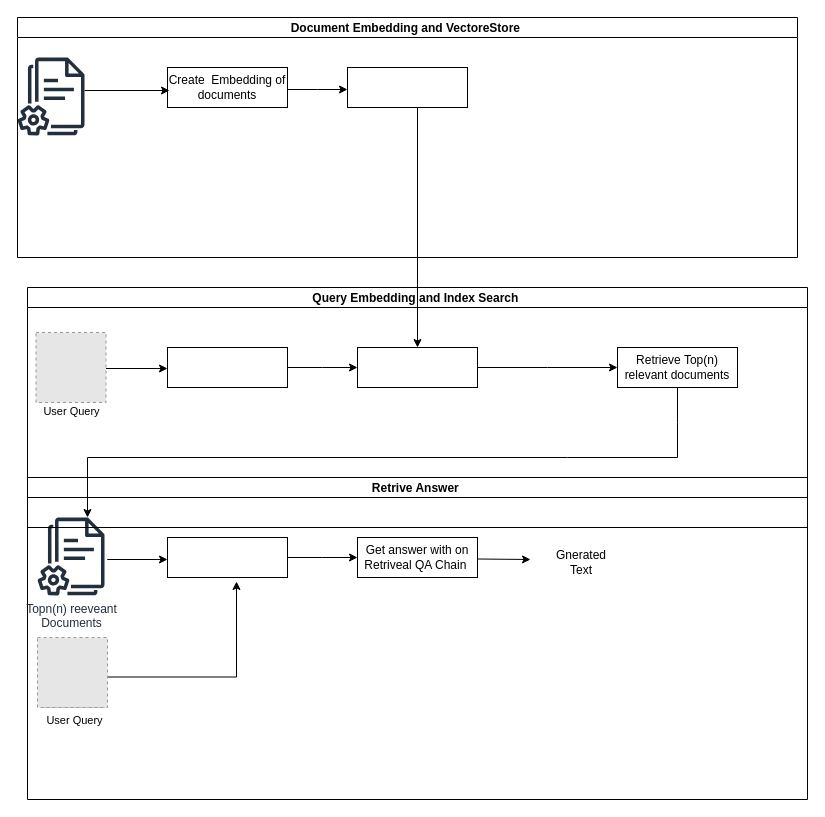
The diagram is 825 pixels wide and 817 high, and some of its shapes have lost their labels. Grey dashed boxes stand in for pictures. The shapes that lost their labels are listed below. From the top down, each one's centre as x and y in pixels, then its label:
(50,96): Documents
(407,87): Create VectoreStore
(227,367): Create Embedding of Query
(417,367): Index Search
(227,557): Create Prompt Template
